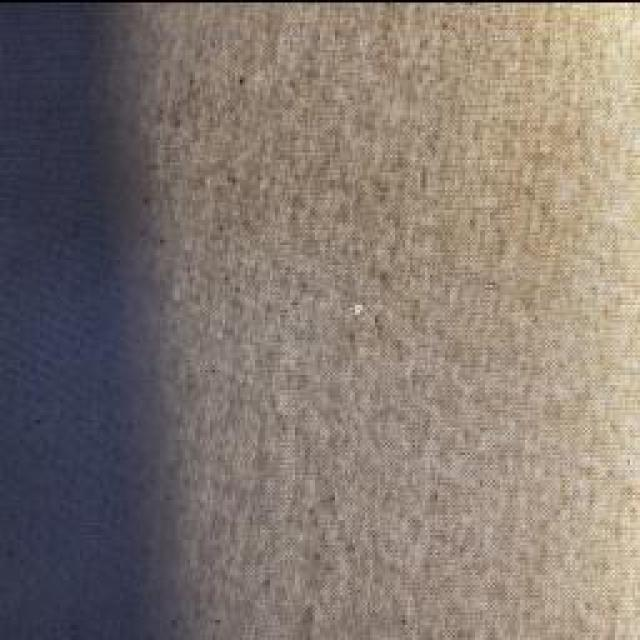seam: (296, 258, 396, 350)
